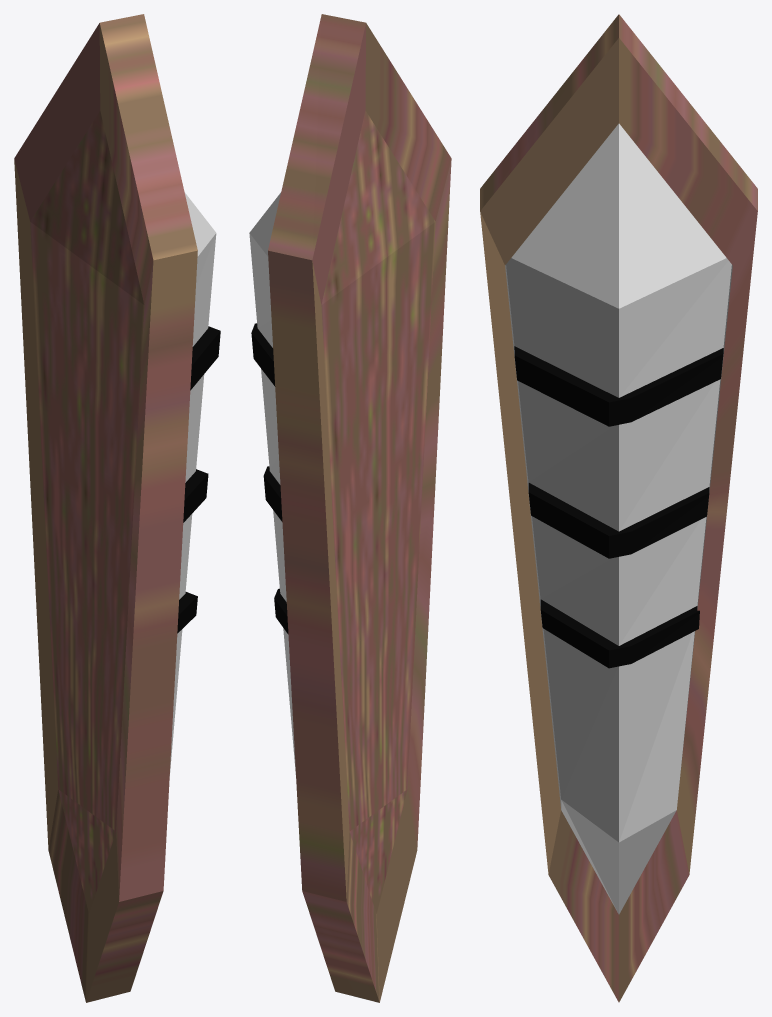
File: lamp.fbx
3 renders of one model, left to right at view 1: azimuth 30°, elevation 25°; view 2: azimuth 150°, elevation 25°; view 3: azimuth 270°, elevation 25°, orthographic.
Visible parts, largest first — view 1: pCube1; view 2: pCube1; view 3: pCube1.
Boxes of the visible parts, box(x1,y1,x2,y2) form: pCube1: box(14, 14, 220, 1002); pCube1: box(249, 14, 451, 1002); pCube1: box(480, 14, 757, 1002).
Bounding box in the file's own units: 0.4937 × 3.48 × 0.8978.
4 materials, 1 textured.
